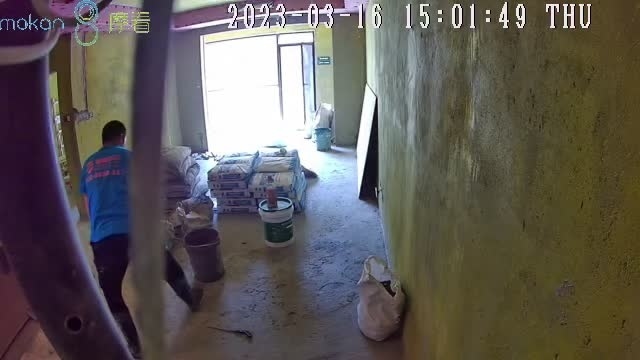people: (80, 120, 204, 360)
window: (202, 32, 316, 131)
